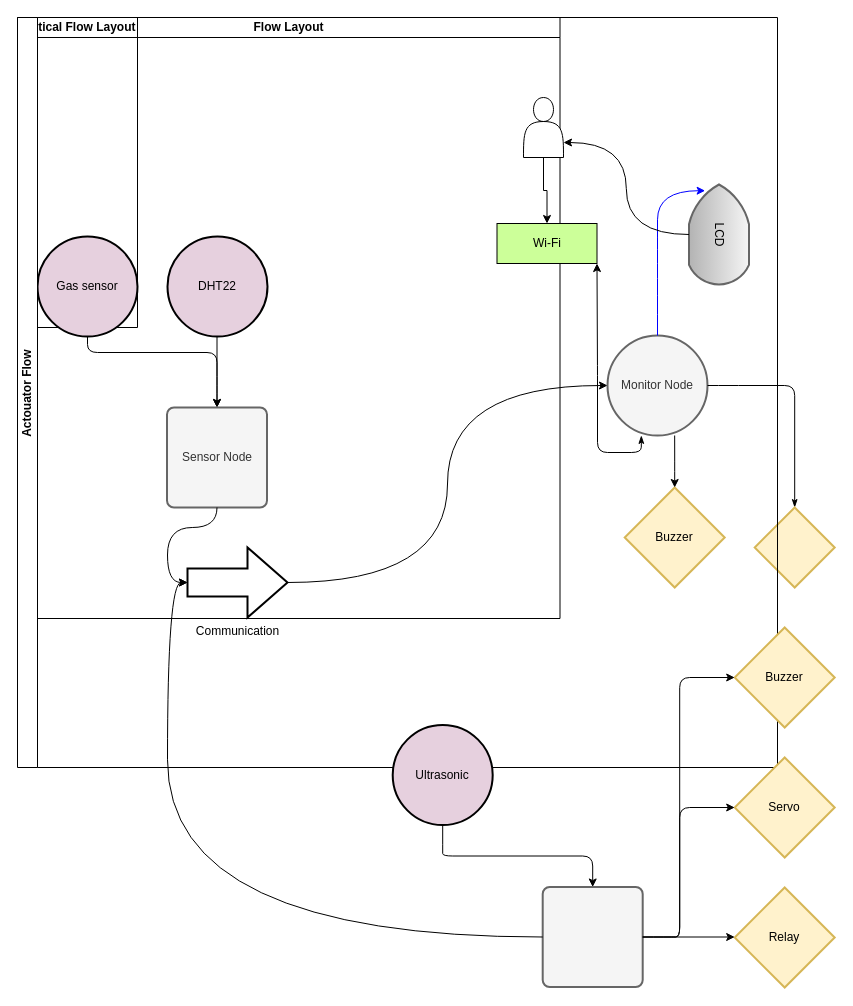
Some shapes in this 853 by 1006 pixel diagram are drawn without their labels. Here are the shapes that lost their labels. From the top down, the centre of each, then its label:
point 794,547: LED
point 592,937: Actuator Node
